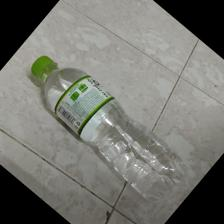Dasani: (28, 54, 188, 204)
